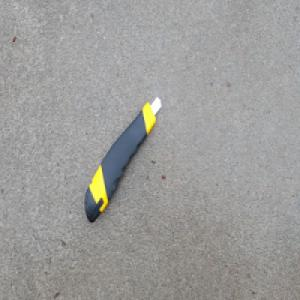Cutter: (82, 94, 161, 224)
